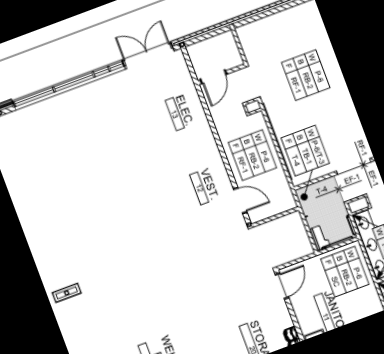door: (231, 175, 273, 216), (274, 262, 315, 301), (199, 69, 236, 108)
double door: (112, 17, 173, 64)
wall: (175, 43, 241, 192), (175, 0, 314, 50), (252, 90, 304, 212), (342, 196, 384, 310), (270, 234, 363, 274), (246, 204, 300, 231), (228, 21, 252, 71), (283, 297, 308, 342), (224, 59, 251, 77), (343, 189, 370, 206), (350, 202, 373, 218), (361, 190, 377, 212), (376, 263, 384, 286)
